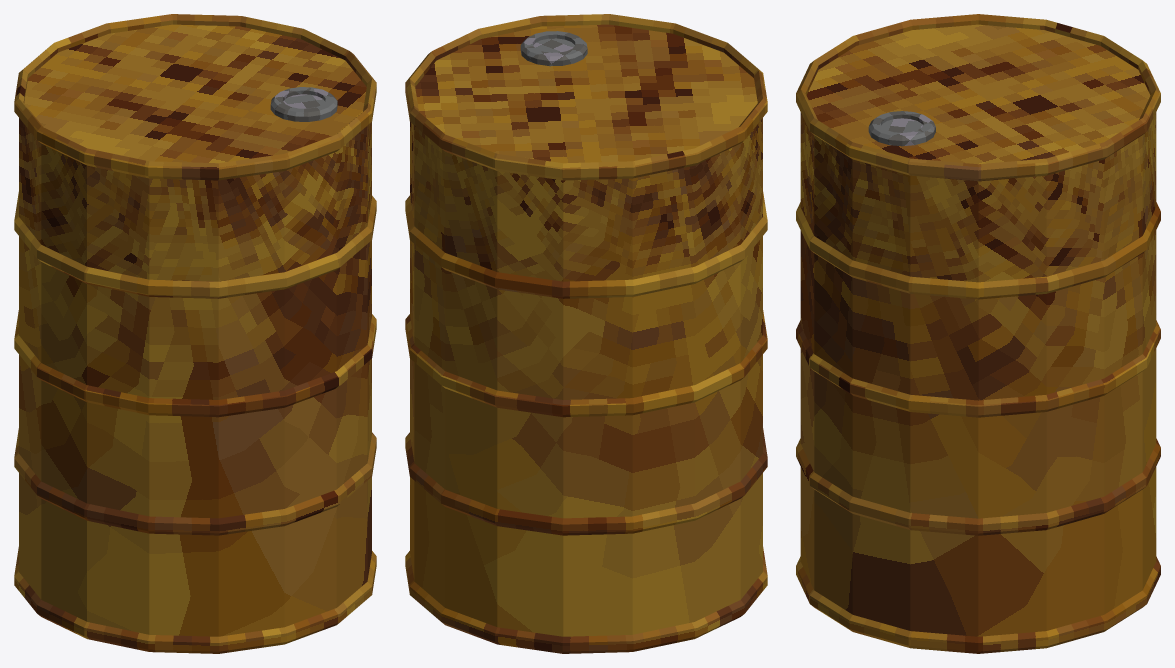
Rendered from barrel.fbx.
The picture shows the model from 3 angles, left to right: view 1: azimuth 30°, elevation 25°; view 2: azimuth 150°, elevation 25°; view 3: azimuth 270°, elevation 25°; orthographic projection.
Visible parts, largest first — view 1: Cylinder.011, Cylinder.012; view 2: Cylinder.011, Cylinder.012; view 3: Cylinder.011, Cylinder.012.
Part boxes in pixels (left/top/right/bottom): Cylinder.011: left=19, top=24, right=371, bottom=636; Cylinder.012: left=14, top=14, right=376, bottom=653; Cylinder.011: left=410, top=24, right=762, bottom=636; Cylinder.012: left=405, top=14, right=767, bottom=653; Cylinder.011: left=800, top=24, right=1156, bottom=636; Cylinder.012: left=796, top=14, right=1160, bottom=653.
Size of the model in its own units: 154 by 228 by 154.
2 materials, 2 textured.
